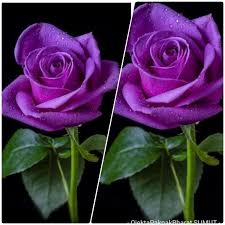rose: (2, 2, 224, 131)
